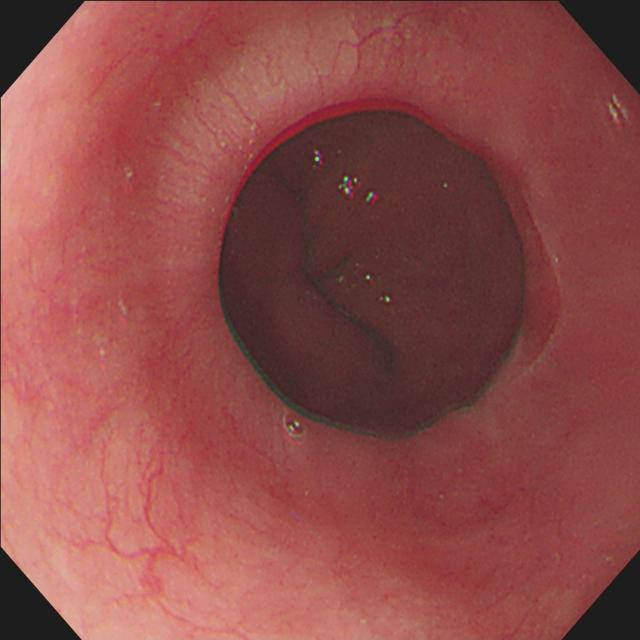E: (223, 109, 484, 430)
T: (282, 411, 310, 445)
